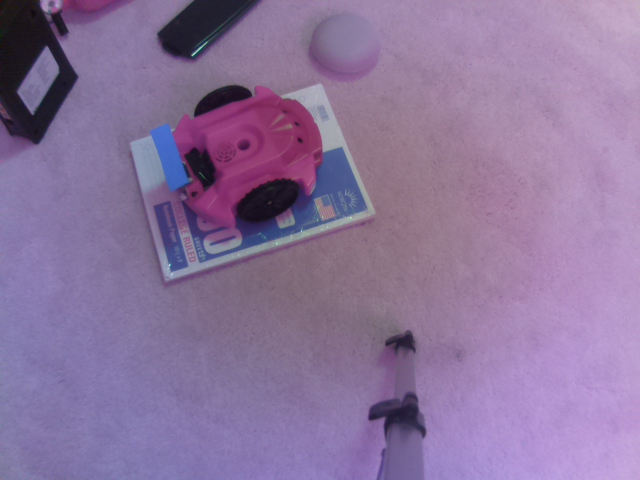board: (144, 119, 200, 193)
chassis: (149, 80, 324, 227)
